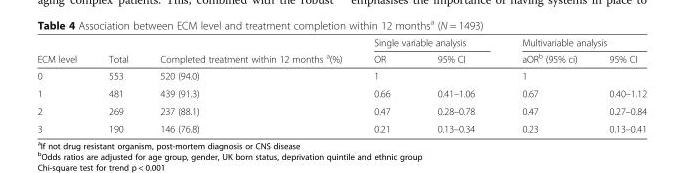table: (36, 36, 646, 134)
table column: (143, 36, 357, 134), (497, 36, 592, 134), (413, 36, 497, 134), (36, 36, 92, 134), (357, 36, 413, 134), (592, 36, 646, 134), (92, 36, 143, 134)
table column header: (36, 36, 646, 67)
table row: (36, 49, 646, 67), (36, 101, 646, 119), (36, 67, 646, 84), (36, 84, 646, 101), (36, 119, 646, 134), (36, 36, 646, 49)
table spanning cell: (143, 36, 357, 67), (497, 36, 646, 49), (357, 36, 497, 49), (36, 36, 92, 67), (92, 36, 143, 67)
